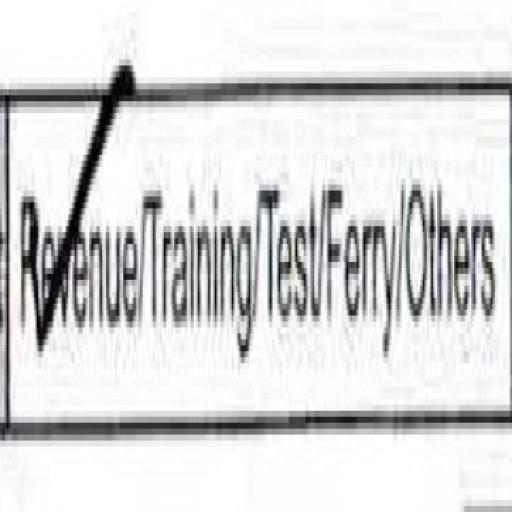check: (0, 0, 138, 477)
